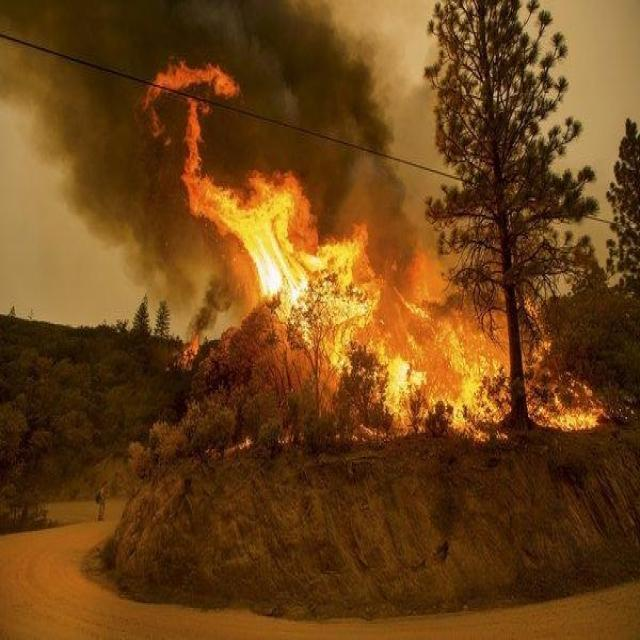Fire: (138, 53, 610, 457)
Smoke: (1, 1, 422, 336)
